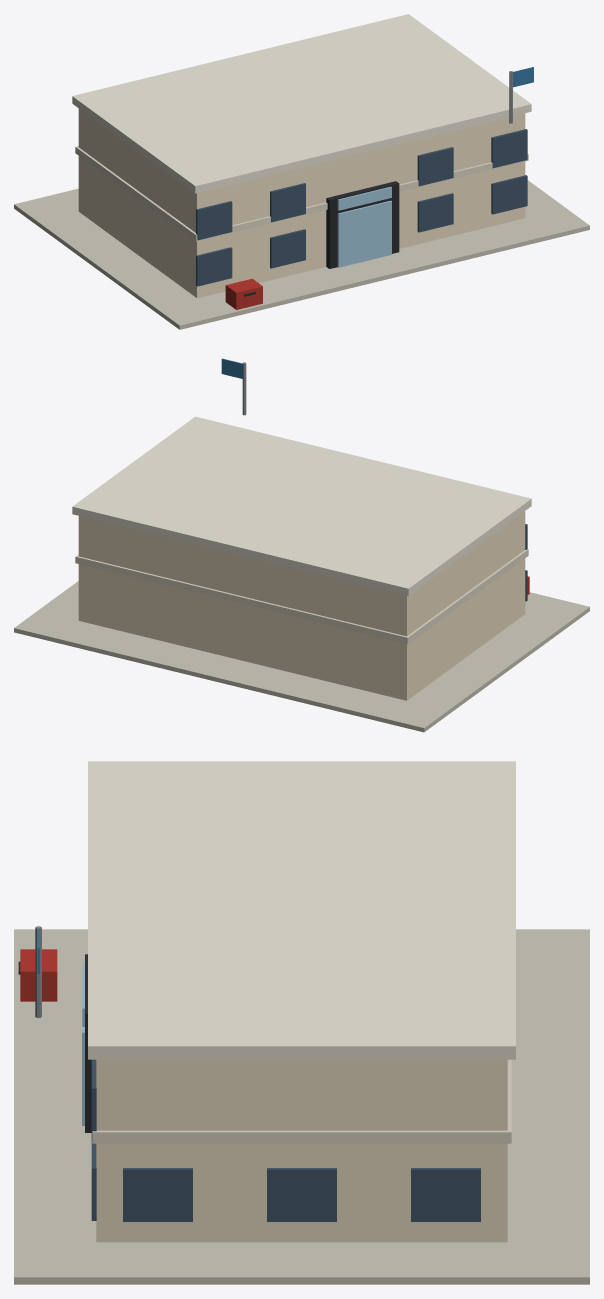
Rendered from building.post-office.glb.
3 renders of one model, top to bottom at view 1: azimuth 30°, elevation 25°; view 2: azimuth 150°, elevation 25°; view 3: azimuth 270°, elevation 25°, orthographic. The views are drawn at different scales.
Visible parts, largest first — view 1: building.post-office; view 2: building.post-office; view 3: building.post-office.
Part boxes in pixels (bbox=[...]): building.post-office: bbox=[14, 14, 589, 329]; building.post-office: bbox=[14, 358, 589, 732]; building.post-office: bbox=[14, 761, 589, 1284].
Bounding box in the file's own units: 20 × 7.95 × 14.
